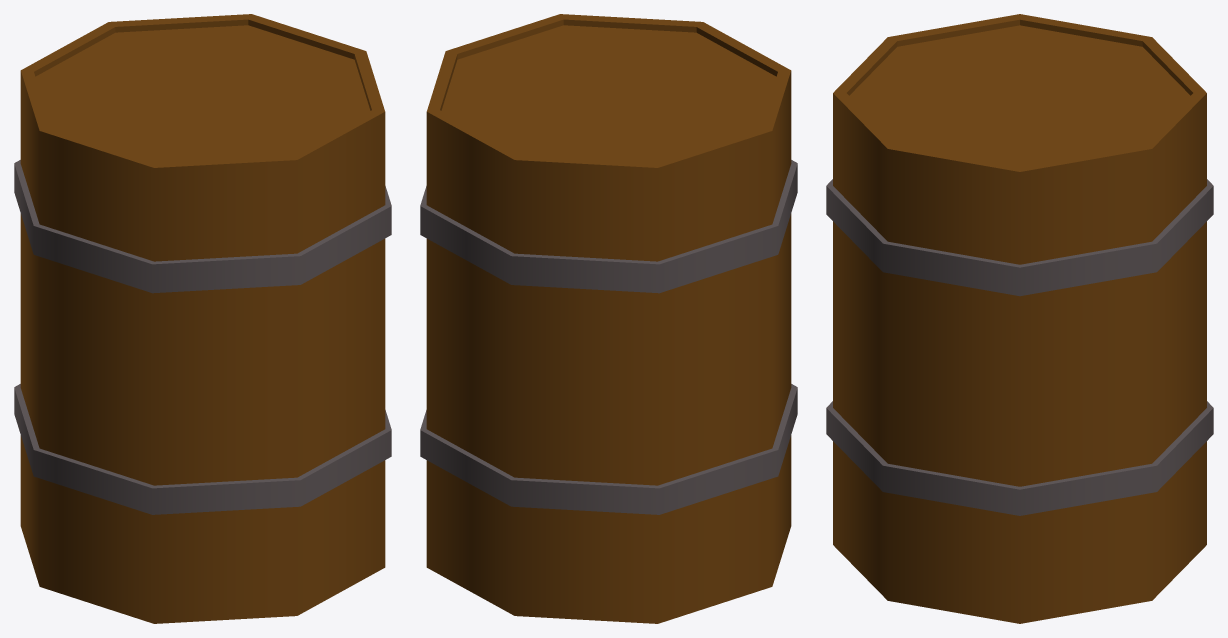
The model's file is Wood_cylinder.fbx.
The picture shows the model from 3 angles, left to right: view 1: azimuth 30°, elevation 25°; view 2: azimuth 150°, elevation 25°; view 3: azimuth 270°, elevation 25°; orthographic projection.
Parts seen in each view (by area): view 1: Wood_cylinder; view 2: Wood_cylinder; view 3: Wood_cylinder.
Part boxes in pixels (left/top/right/bottom): Wood_cylinder: left=14, top=14, right=391, bottom=623; Wood_cylinder: left=420, top=14, right=797, bottom=623; Wood_cylinder: left=826, top=14, right=1213, bottom=623.
Bounding box in the file's own units: 31.08 × 40 × 31.08.
2 materials, 2 textured.
